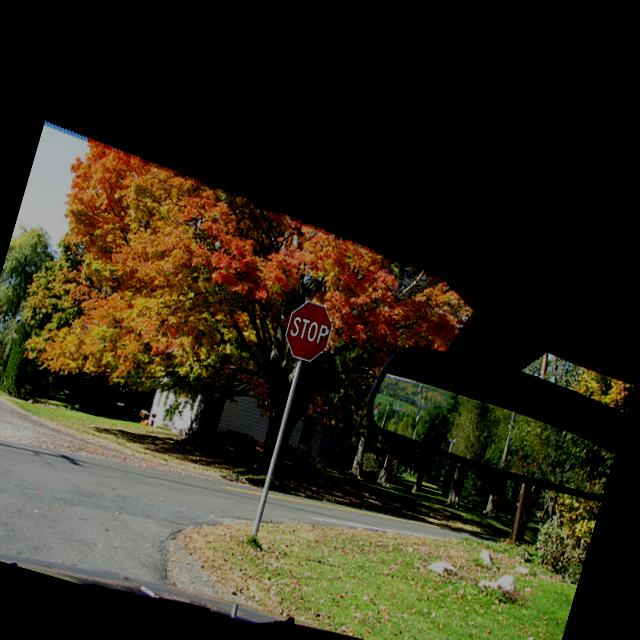Vehicle: (0, 512, 547, 640)
